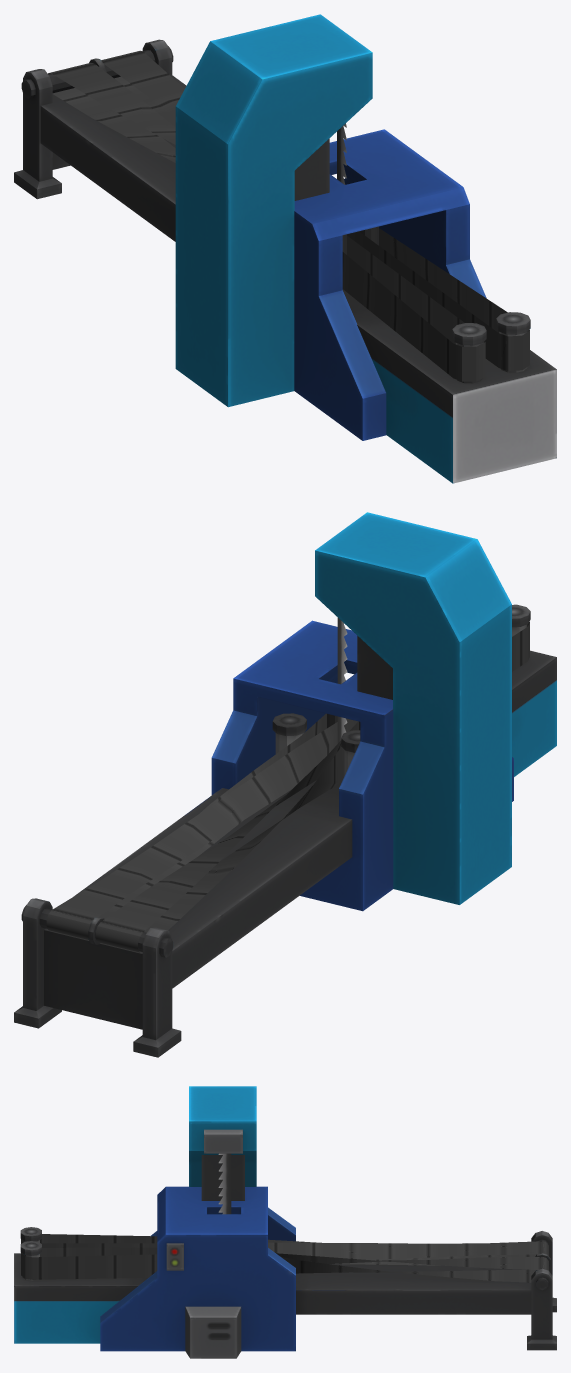
The model's file is stanok polovinka.fbx.
The picture shows the model from 3 angles, top to bottom: view 1: azimuth 30°, elevation 25°; view 2: azimuth 150°, elevation 25°; view 3: azimuth 270°, elevation 25°; orthographic projection. The views are drawn at different scales.
Visible parts, largest first — view 1: Stanok polovina, Stanok polovina lenta; view 2: Stanok polovina, Stanok polovina lenta, Stanok polovina pila; view 3: Stanok polovina, Stanok polovina lenta, Stanok polovina pila.
Boxes of the visible parts, x1,y1,x2,y2 form: Stanok polovina: (14,14,556,483); Stanok polovina lenta: (48,50,529,381); Stanok polovina: (14,512,556,1057); Stanok polovina lenta: (46,622,529,952); Stanok polovina pila: (337,617,347,743); Stanok polovina: (14,1086,556,1358); Stanok polovina lenta: (21,1234,548,1282); Stanok polovina pila: (218,1153,231,1214).
Size of the model in its own units: 94.43 by 120 by 285.
